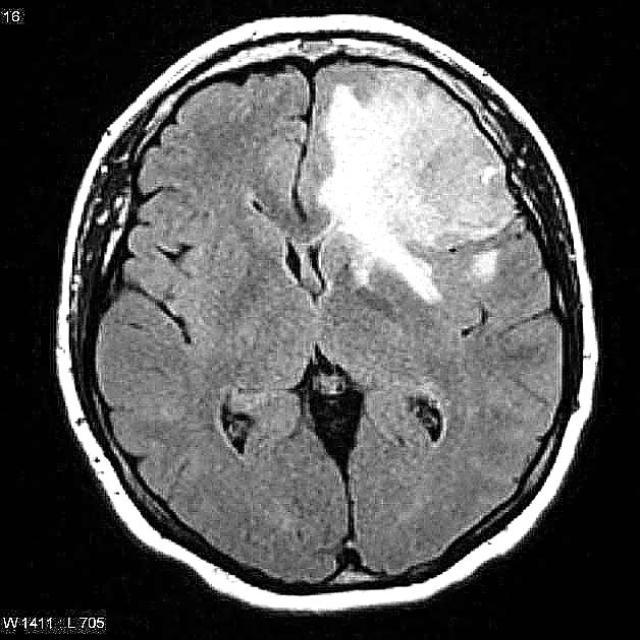brain tumor: (315, 67, 517, 305)
